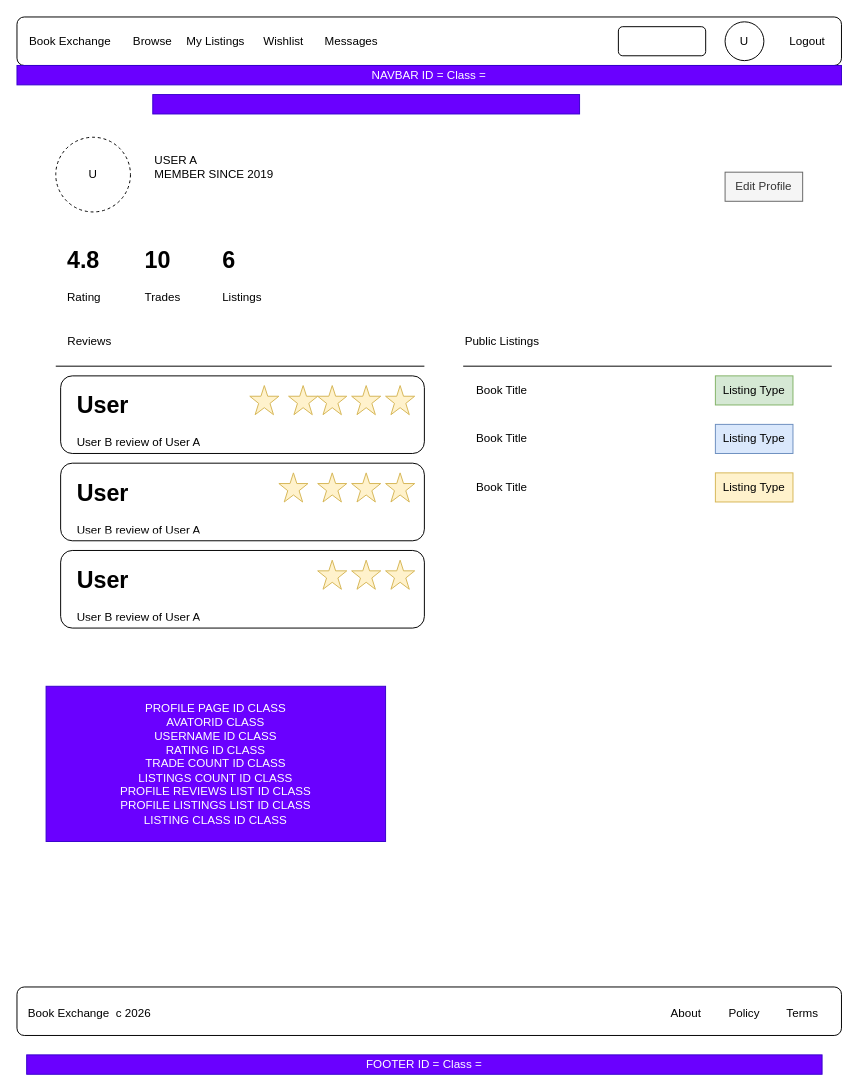
The diagram is 858 pixels wide and 1091 high, and some of its shapes have lost their labels. The centre of each missing label's shape, as x and y in pixels:
MESSAGE PAGE ID CLASS: pixel 366 104
Notifications: pixel 661 41
